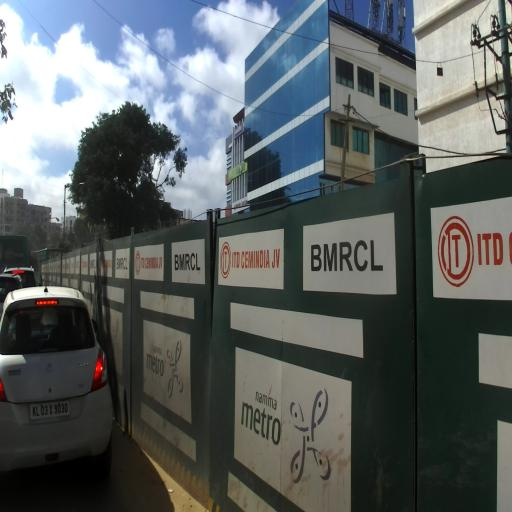street_light_0: (64, 183, 85, 189), (44, 217, 60, 221)
